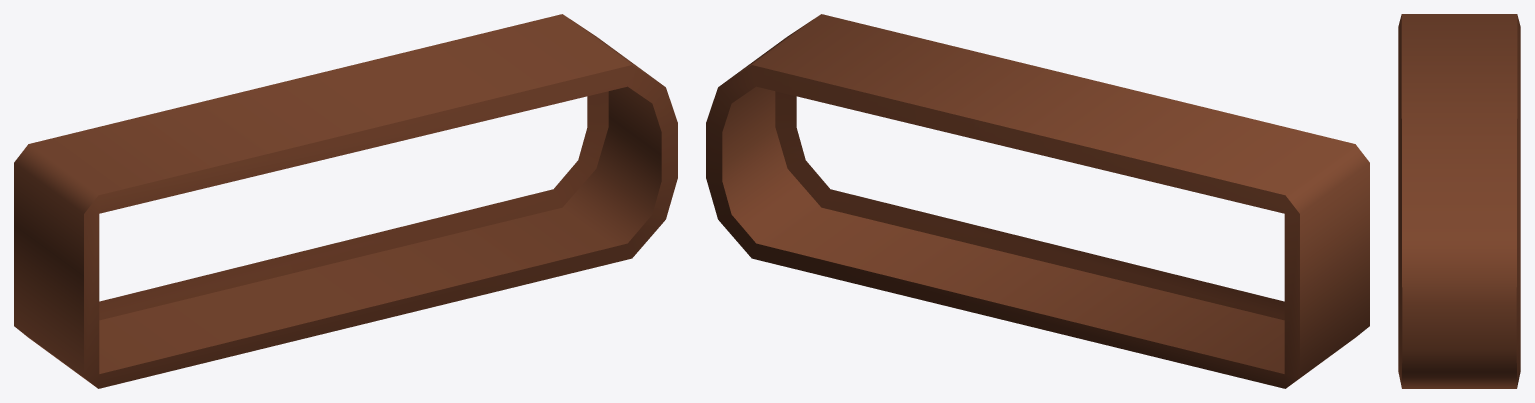
Rendered from BookLeatherStrap.fbx.
The picture shows the model from 3 angles, left to right: view 1: azimuth 30°, elevation 25°; view 2: azimuth 150°, elevation 25°; view 3: azimuth 270°, elevation 25°; orthographic projection. The views are drawn at different scales.
Parts seen in each view (by area): view 1: BookLeatherStrap; view 2: BookLeatherStrap; view 3: BookLeatherStrap.
Boxes of the visible parts, box(x1,y1,x2,y2) form: BookLeatherStrap: box(14, 14, 677, 388); BookLeatherStrap: box(706, 14, 1369, 388); BookLeatherStrap: box(1398, 14, 1520, 388).
Size of the model in its own units: 23.25 by 7.24 by 5.03.
